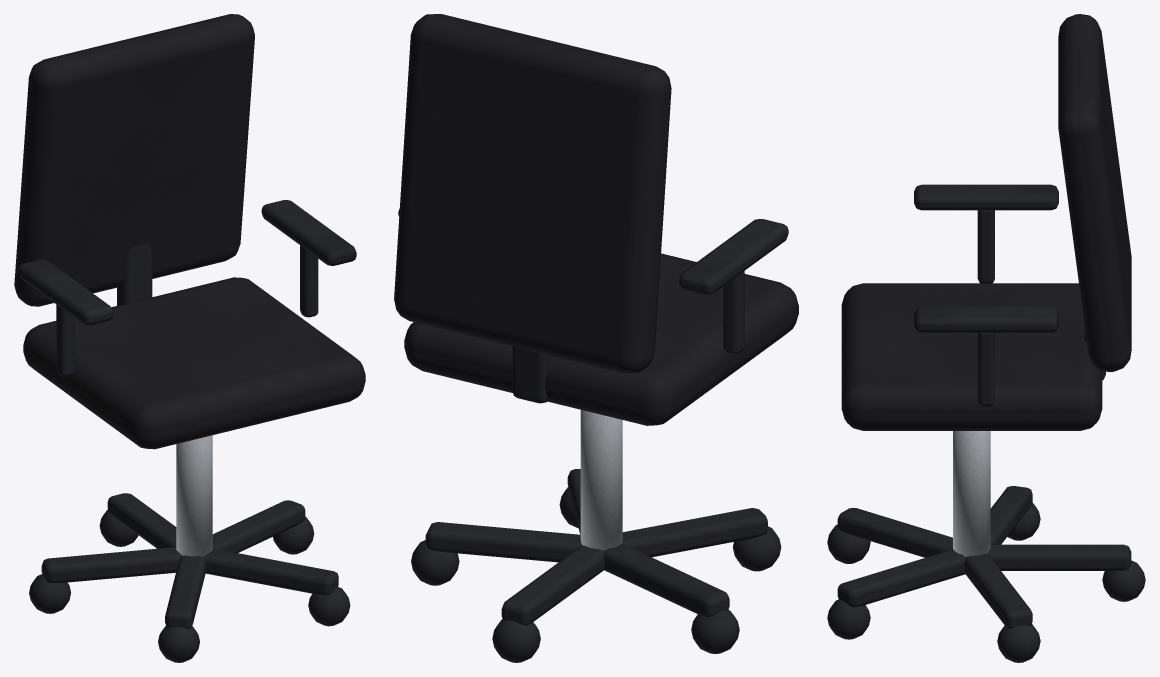
The model's file is OfficeChair.glb.
3 views of the same model, side by side, from view 1: azimuth 30°, elevation 25°; view 2: azimuth 150°, elevation 25°; view 3: azimuth 270°, elevation 25° (orthographic). The views are drawn at different scales.
Parts seen in each view (by area): view 1: OfficeChair_FabricBlack, OfficeChair_PlasticDark, OfficeChair_Steel; view 2: OfficeChair_FabricBlack, OfficeChair_PlasticDark, OfficeChair_Steel; view 3: OfficeChair_FabricBlack, OfficeChair_PlasticDark, OfficeChair_Steel.
Part boxes in pixels (x1,y1,x2,y2): OfficeChair_FabricBlack: [14, 14, 365, 449]; OfficeChair_PlasticDark: [18, 200, 356, 662]; OfficeChair_Steel: [176, 435, 212, 556]; OfficeChair_FabricBlack: [394, 14, 798, 425]; OfficeChair_PlasticDark: [398, 209, 788, 662]; OfficeChair_Steel: [580, 410, 622, 550]; OfficeChair_FabricBlack: [841, 14, 1131, 430]; OfficeChair_PlasticDark: [827, 184, 1145, 662]; OfficeChair_Steel: [953, 431, 990, 556].
Size of the model in its own units: 2.3 by 4.09 by 2.2.
Materials: 3 (3 with a texture image).
